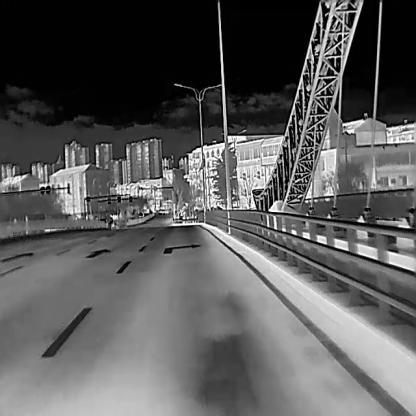car: (107, 219, 117, 227), (137, 211, 144, 216)
